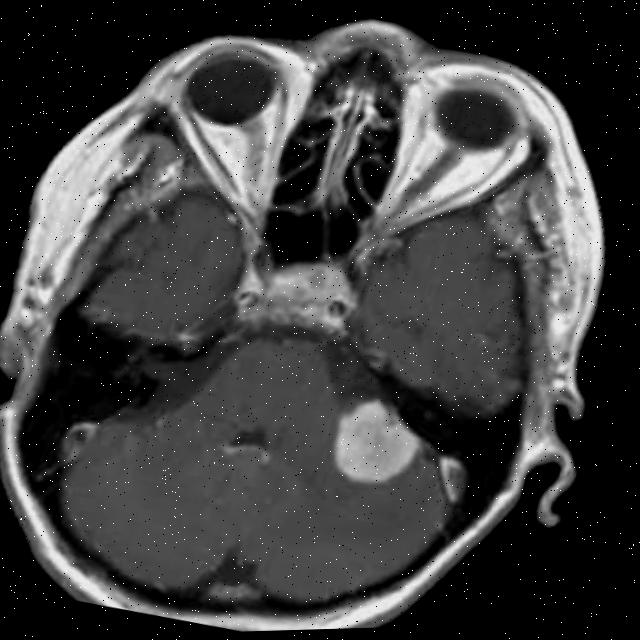Meningioma: (318, 389, 430, 495)
Pituitary: (264, 251, 353, 310)
